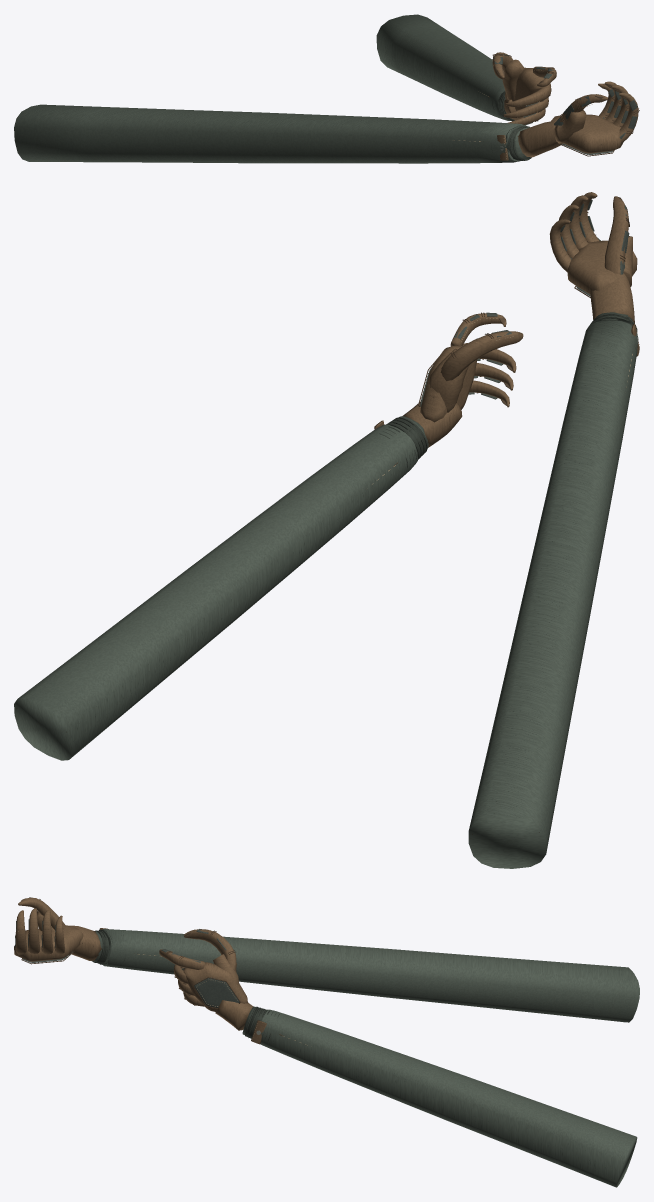
Rendered from hands-smg.glb.
3 views of the same model, one above another, from view 1: azimuth 30°, elevation 25°; view 2: azimuth 150°, elevation 25°; view 3: azimuth 270°, elevation 25° (orthographic). The views are drawn at different scales.
Visible parts, largest first — view 1: LeftHand, RightHand; view 2: LeftHand, RightHand; view 3: LeftHand, RightHand.
Part boxes in pixels (bbox=[...]): LeftHand: bbox=[14, 81, 639, 163]; RightHand: bbox=[376, 14, 556, 125]; LeftHand: bbox=[468, 192, 639, 868]; RightHand: bbox=[14, 312, 523, 760]; LeftHand: bbox=[14, 897, 639, 1022]; RightHand: bbox=[159, 929, 637, 1187].
Size of the model in its own units: 0.8039 by 0.4408 by 1.11.
Materials: 8 (6 with a texture image).
